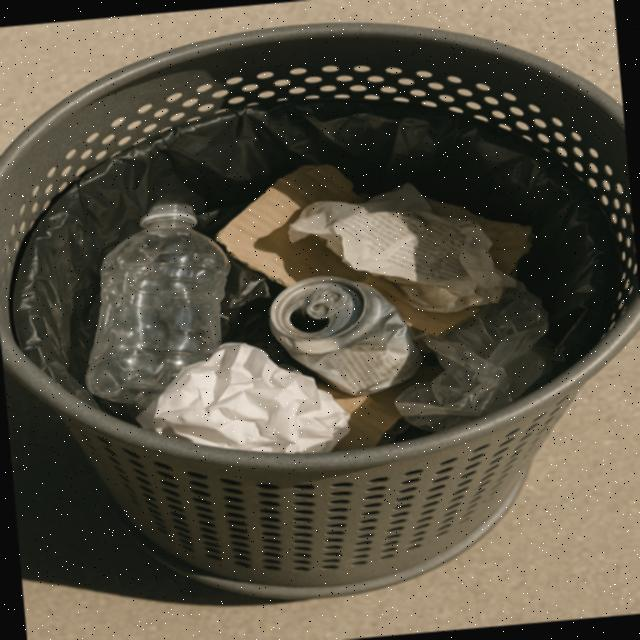aluminum: (264, 266, 430, 404)
paper: (282, 170, 524, 328), (127, 332, 355, 472)
plastic: (70, 196, 234, 412)
